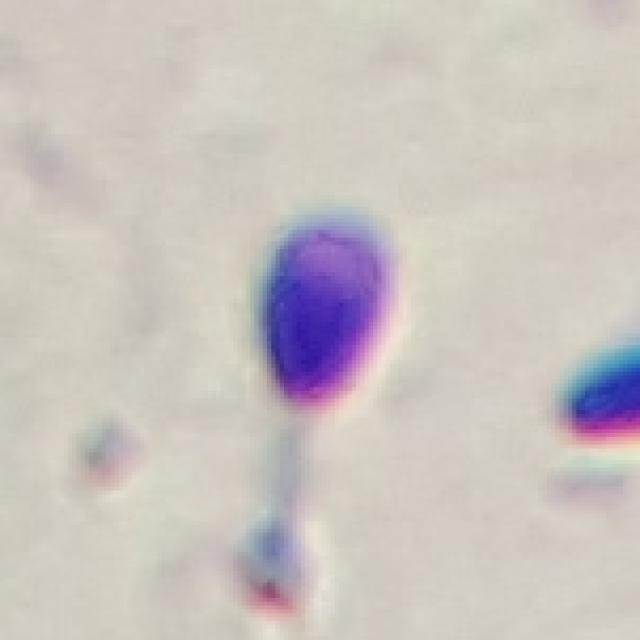normal sperm: (260, 203, 400, 593)
